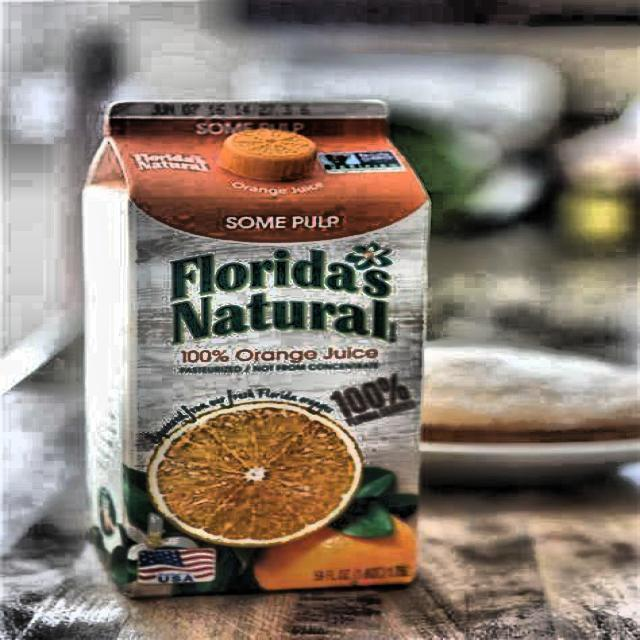cardboard: (81, 99, 431, 599)
